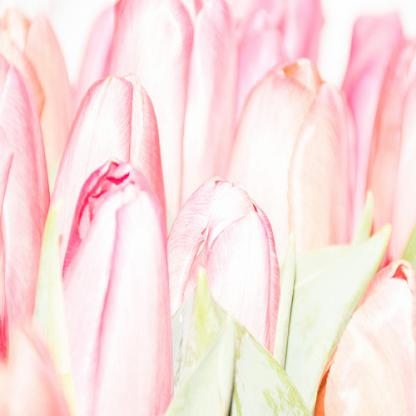TULIP: (22, 54, 404, 390)
